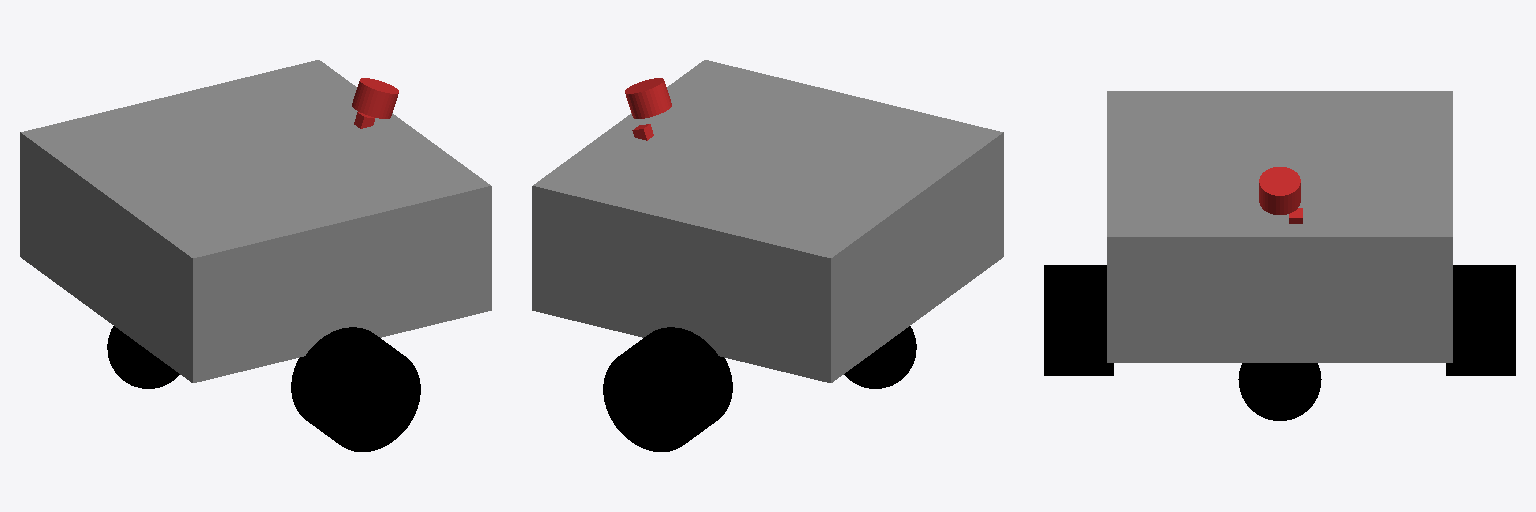
URDF robot description (sentry):
<?xml version="1.0"?>
<robot name="sentry">

  <material name="gray"><color rgba="0.6 0.6 0.6 1.0"/></material>
  <material name="black"><color rgba="0 0 0 1.0"/></material>
  <material name="red"><color rgba="0.8 0.2 0.2 1.0"/></material>

  <link name="base_link">
    <inertial>
      <mass value="12.0"/>
      <!-- lower the inertial origin slightly to reduce tipping -->
      <origin xyz="0 0 -0.02" rpy="0 0 0"/>
      <inertia ixx="0.2933" ixy="0" ixz="0" iyy="0.2933" iyz="0" izz="0.4333"/>
    </inertial>

    <visual>
      <origin xyz="0 0 0.05" rpy="0 0 0"/>
      <geometry><box size="0.5 0.5 0.2"/></geometry>
      <material name="gray"/>
    </visual>

    <collision>
      <origin xyz="0 0 0.05" rpy="0 0 0"/>
      <geometry><box size="0.5 0.5 0.2"/></geometry>
    </collision>
  </link>

  <link name="left_wheel">
    <visual>
      <origin xyz="0 0 0" rpy="1.5708 0 0"/>
      <geometry>
        <cylinder length="0.10" radius="0.08"/>
      </geometry>
      <material name="black"/>
    </visual>

    <collision>
      <origin xyz="0 0 0" rpy="1.5708 0 0"/>
      <geometry>
        <cylinder length="0.10" radius="0.08"/>
      </geometry>
      <surface>
        <friction>
          <ode>
            <mu>30</mu>
            <mu2>15</mu2>
            <slip1>0.001</slip1>
            <slip2>0.001</slip2>
          </ode>
        </friction>
      </surface>
    </collision>
    <inertial>
      <mass value="1.2"/>
      <origin xyz="0 0 0" rpy="0 0 0"/>
      <inertia
        ixx="0.003733"
        ixy="0"
        ixz="0"
        iyy="0.003733"
        iyz="0"
        izz="0.000768"/>
    </inertial>
  </link>

  <!-- simplified suspension mount for left wheel: prismatic joint allows small vertical travel -->
  <link name="left_suspension">
    <inertial>
      <mass value="0.5"/>
      <origin xyz="0 0 -0.02" rpy="0 0 0"/>
      <inertia ixx="0.001" ixy="0" ixz="0" iyy="0.001" iyz="0" izz="0.001"/>
    </inertial>
  </link>

  <joint name="left_suspension_prismatic" type="prismatic">
    <parent link="base_link"/>
    <!-- place mount roughly at wheel hub: centered longitudinally, outside body laterally -->
    <child link="left_suspension"/>
    <!-- raised wheel center to match support bottoms: center z = -0.09 (wheel radius 0.08 -> bottom -0.17) -->
    <origin xyz="0 0.29 -0.1" rpy="0 0 0"/>
    <axis xyz="0 0 1"/>
    <limit lower="-0.02" upper="0.02" effort="50" velocity="0.5"/>
    <dynamics damping="20.0"/>
  </joint>

  <joint name="left_wheel_joint" type="continuous">
    <!-- parent is suspension mount now; wheel hub is at mount origin -->
    <parent link="left_suspension"/>
    <child link="left_wheel"/>
    <origin xyz="0 0 0" rpy="0 0 0"/>
    <axis xyz="0 1 0"/>
    <!-- limit effort to avoid excessive torque when velocity commands step -->
    <limit effort="30.0" velocity="30.0"/>
    <!-- add higher damping to smooth sudden velocity changes (approximate viscous damper) -->
    <dynamics damping="1.0" friction="0.05"/>
    <physics>
      <ode>
        <stopCfm>0.001</stopCfm>
        <stopErp>0.8</stopErp>
      </ode>
    </physics>
  </joint>

  <link name="right_wheel">
    <visual>
      <origin xyz="0 0 0" rpy="1.5708 0 0"/>
      <geometry>
        <cylinder length="0.10" radius="0.08"/>
      </geometry>
      <material name="black"/>
    </visual>

    <collision>
      <origin xyz="0 0 0" rpy="1.5708 0 0"/>
      <geometry>
        <cylinder length="0.10" radius="0.08"/>
      </geometry>
      <surface>
        <friction>
          <ode>
            <mu>30</mu>
            <mu2>15</mu2>
            <slip1>0.001</slip1>
            <slip2>0.001</slip2>
          </ode>
        </friction>
      </surface>
    </collision>

    <inertial>
      <mass value="1.2"/>
      <origin xyz="0 0 0" rpy="0 0 0"/>
      <inertia
        ixx="0.003733"
        ixy="0"
        ixz="0"
        iyy="0.003733"
        iyz="0"
        izz="0.000768"/>
    </inertial>
  </link>

  <!-- simplified suspension mount for right wheel: symmetric to left -->
  <link name="right_suspension">
    <inertial>
      <mass value="0.5"/>
      <origin xyz="0 0 -0.02" rpy="0 0 0"/>
      <inertia ixx="0.001" ixy="0" ixz="0" iyy="0.001" iyz="0" izz="0.001"/>
    </inertial>
  </link>

  <joint name="right_suspension_prismatic" type="prismatic">
    <parent link="base_link"/>
    <child link="right_suspension"/>
    <!-- raised wheel center to match support bottoms -->
    <origin xyz="0 -0.29 -0.1" rpy="0 0 0"/>
    <axis xyz="0 0 1"/>
    <limit lower="-0.02" upper="0.02" effort="50" velocity="0.5"/>
    <dynamics damping="20.0"/>
  </joint>

  <joint name="right_wheel_joint" type="continuous">
    <parent link="right_suspension"/>
    <child link="right_wheel"/>
    <origin xyz="0 0 0" rpy="0 0 0"/>
    <axis xyz="0 1 0"/>
    <limit effort="30.0" velocity="30.0"/>
    <dynamics damping="1.0" friction="0.05"/>
    <physics>
      <ode>
        <stopCfm>0.001</stopCfm>
        <stopErp>0.8</stopErp>
      </ode>
    </physics>
  </joint>

  <!-- rear support replaced with swivel + spherical wheel to allow free rotation -->
  <link name="caster_swivel">
    <inertial>
      <mass value="0.4"/>
      <origin xyz="0 0 0" rpy="0 0 0"/>
      <inertia ixx="0.0006" ixy="0" ixz="0" iyy="0.0006" iyz="0" izz="0.0006"/>
    </inertial>
  </link>

  <!-- swivel joint: allow the caster to yaw freely (keeps name for ros2_control mapping) -->
  <joint name="caster_wheel_joint" type="revolute">
    <parent link="base_link"/>
    <child link="caster_swivel"/>
    <origin xyz="-0.18 0.0 -0.11" rpy="0 0 0"/>
    <axis xyz="0 0 1"/>
    <limit lower="-3.14159" upper="3.14159" effort="10" velocity="1.0"/>
    <!-- increase damping to reduce yaw oscillation -->
    <dynamics damping="0.5"/>
  </joint>

  <link name="caster_wheel">
    <visual>
      <origin xyz="0 0 0" rpy="0 0 0"/>
      <geometry><sphere radius="0.06"/></geometry>
      <material name="black"/>
    </visual>
    <collision>
      <origin xyz="0 0 0" rpy="0 0 0"/>
      <geometry><sphere radius="0.055"/></geometry>
      <surface>
        <friction>
          <ode>
            <mu>0.1</mu>
            <mu2>0.1</mu2>
            <slip1>0.002</slip1>
            <slip2>0.002</slip2>
          </ode>
        </friction>
      </surface>
    </collision>
    <inertial>
      <mass value="0.2"/>
      <origin xyz="0 0 0" rpy="0 0 0"/>
      <inertia ixx="0.0003" ixy="0" ixz="0" iyy="0.0003" iyz="0" izz="0.0003"/>
    </inertial>
  </link>

  <joint name="caster_wheel_spin" type="continuous">
    <parent link="caster_swivel"/>
    <child link="caster_wheel"/>
    <origin xyz="0 0 0" rpy="0 0 0"/>
    <axis xyz="0 1 0"/>
    <dynamics damping="0.01" friction="0.0"/>
  </joint>

  <!-- front support: suspended swivel + small ball wheel for low-friction free rotation -->
  <link name="front_support_mount">
    <inertial>
      <mass value="0.3"/>
      <origin xyz="0 0 -0.02" rpy="0 0 0"/>
      <inertia ixx="0.0005" ixy="0" ixz="0" iyy="0.0005" iyz="0" izz="0.0005"/>
    </inertial>
  </link>

  <joint name="front_support_prismatic" type="prismatic">
    <parent link="base_link"/>
    <child link="front_support_mount"/>
    <!-- align front support wheel center z with rear caster wheel center (-0.11) -->
    <origin xyz="0.18 0.0 -0.11" rpy="0 0 0"/>
    <axis xyz="0 0 1"/>
    <limit lower="-0.02" upper="0.02" effort="20" velocity="0.5"/>
    <dynamics damping="12.0"/>
  </joint>

  <link name="front_support_swivel">
    <inertial>
      <mass value="0.15"/>
      <origin xyz="0 0 0" rpy="0 0 0"/>
      <inertia ixx="0.0002" ixy="0" ixz="0" iyy="0.0002" iyz="0" izz="0.0002"/>
    </inertial>
  </link>

  <joint name="front_support_swivel_joint" type="revolute">
    <parent link="front_support_mount"/>
    <child link="front_support_swivel"/>
    <origin xyz="0 0 0" rpy="0 0 0"/>
    <axis xyz="0 0 1"/>
    <!-- allow free swivel with little damping -->
    <limit lower="-3.14159" upper="3.14159" effort="10" velocity="1.0"/>
    <!-- increase damping to reduce yaw oscillation -->
    <dynamics damping="0.5"/>
  </joint>

  <link name="front_support_wheel">
    <visual>
      <origin xyz="0 0 0" rpy="0 0 0"/>
      <geometry><sphere radius="0.06"/></geometry>
      <material name="black"/>
    </visual>
    <collision>
      <origin xyz="0 0 0" rpy="0 0 0"/>
      <geometry><sphere radius="0.055"/></geometry>
      <surface>
        <friction>
          <ode>
            <mu>0.1</mu>
            <mu2>0.1</mu2>
            <slip1>0.002</slip1>
            <slip2>0.002</slip2>
          </ode>
        </friction>
      </surface>
    </collision>
    <inertial>
      <mass value="0.2"/>
      <origin xyz="0 0 0" rpy="0 0 0"/>
      <inertia ixx="0.0003" ixy="0" ixz="0" iyy="0.0003" iyz="0" izz="0.0003"/>
    </inertial>
  </link>

  <!-- wheel spin joint: allow the ball to spin around an axis (approximate rolling) -->
  <joint name="front_support_wheel_spin" type="continuous">
    <parent link="front_support_swivel"/>
    <child link="front_support_wheel"/>
    <origin xyz="0 0 0" rpy="0 0 0"/>
    <!-- spin axis roughly lateral so forward/back motion can roll the ball -->
    <axis xyz="0 1 0"/>
    <dynamics damping="0.01" friction="0.0"/>
  </joint>

  <link name="lidar_link">
    <visual>
      <geometry>
        <cylinder length="0.04" radius="0.03"/>
      </geometry>
      <material name="red"/>
    </visual>
  </link>

  <joint name="lidar_joint" type="fixed">
    <parent link="base_link"/>
    <child link="lidar_link"/>
    <origin xyz="0.20 0.0 0.2" rpy="0 0.349 0"/>
  </joint>

  <link name="imu_link">
    <visual>
      <geometry><box size="0.02 0.02 0.02"/></geometry>
      <material name="red"/>
    </visual>
  </link>

  <joint name="imu_joint" type="fixed">
    <parent link="lidar_link"/>
    <child link="imu_link"/>
    <origin xyz="0.011 0.02329 -0.04412" rpy="0 0 0"/>
  </joint>

  <gazebo reference="lidar_link">
    <sensor name="lidar_sensor" type="gpu_lidar">
      <ignition_frame_id>lidar_link</ignition_frame_id>
      <always_on>true</always_on>
      <update_rate>20</update_rate>
      <visualize>true</visualize>
      <topic>/lidar</topic>
      <namespace></namespace>
      <ray>
        <scan>
          <horizontal>
            <samples>200</samples>
            <resolution>1.0</resolution>
            <min_angle>-1.57</min_angle>
            <max_angle>1.57</max_angle>
          </horizontal>
          <vertical>
            <samples>64</samples>
            <min_angle>-0.12217304764</min_angle>
            <max_angle>0.90757121104</max_angle>
          </vertical>
        </scan>
        <range>
          <min>0.1</min>
          <max>50.0</max>
        </range>
      </ray>
      <noise>
        <type>gaussian</type>
        <mean>0.0</mean>
        <stddev>0.01</stddev>
      </noise>
    </sensor>
  </gazebo>
  
  <gazebo reference="caster_wheel">
    <!-- low-friction spherical rear support -->
    <mu1 value="0.1"/>
    <mu2 value="0.1"/>
  </gazebo>
  
  <gazebo reference="left_wheel">
    <!-- more realistic wheel friction values for traction without excessive locking -->
    <mu1 value="1.5"/>
    <mu2 value="1.5"/>
  </gazebo>
  
  <gazebo reference="right_wheel">
    <mu1 value="1.5"/>
    <mu2 value="1.5"/>
  </gazebo>

  <gazebo reference="front_support_wheel">
    <mu1 value="0.1"/>
    <mu2 value="0.1"/>
  </gazebo>

  <gazebo reference="imu_link">
    <sensor name="imu_sensor" type="imu">
      <ignition_frame_id>imu_link</ignition_frame_id>
      <always_on>true</always_on>
      <update_rate>200</update_rate>
      <topic>/livox/imu</topic>
      <namespace>my_diffbot</namespace>
      <imu>
        <angular_velocity>
          <x>
            <noise type="gaussian"><mean>0.0</mean><stddev>0.0002</stddev></noise>
          </x>
          <y>
            <noise type="gaussian"><mean>0.0</mean><stddev>0.0002</stddev></noise>
          </y>
          <z>
            <noise type="gaussian"><mean>0.0</mean><stddev>0.0002</stddev></noise>
          </z>
        </angular_velocity>
        <linear_acceleration>
          <x>
            <noise type="gaussian"><mean>0.0</mean><stddev>0.005</stddev></noise>
          </x>
          <y>
            <noise type="gaussian"><mean>0.0</mean><stddev>0.005</stddev></noise>
          </y>
          <z>
            <noise type="gaussian"><mean>0.0</mean><stddev>0.005</stddev></noise>
          </z>
        </linear_acceleration>
      </imu>
    </sensor>
  </gazebo>

  <ros2_control name="GazeboSimSystem" type="system">
    <hardware>
      <plugin>gz_ros2_control/GazeboSimSystem</plugin>
    </hardware>
  
    <joint name="left_wheel_joint">
      <command_interface name="velocity">
        <param name="min">-80</param>
        <param name="max">80</param>
      </command_interface>
      <state_interface name="position"/>
      <state_interface name="velocity"/>
    </joint>
    
    <joint name="right_wheel_joint">
      <command_interface name="velocity">
        <param name="min">-80</param>
        <param name="max">80</param>
      </command_interface>
      <state_interface name="position"/>
      <state_interface name="velocity"/>
    </joint>

    <joint name="caster_wheel_joint">
      <state_interface name="position"/>
      <state_interface name="velocity"/>
    </joint>
  </ros2_control>

  <gazebo>
    <plugin filename="libgz_ros2_control-system.so" name="gz_ros2_control::GazeboSimROS2ControlPlugin">
      <parameters>__VELOCITY_CONTROLLER_CONFIG__</parameters>
    </plugin>
  </gazebo>

</robot>

--- Facts derived from the render (not from the file) ---
Views: 3 orthographic renders of the robot side by side, from view 1: azimuth 30°, elevation 25°; view 2: azimuth 150°, elevation 25°; view 3: azimuth 270°, elevation 25°.
Robot: sentry — 12 links, 11 joints (2 revolute, 4 continuous, 3 prismatic, 2 fixed); root link base_link; default pose: all joints at 0.
Visible links, largest first — view 1: base_link, right_wheel, caster_wheel, lidar_link; view 2: base_link, left_wheel, caster_wheel, lidar_link; view 3: base_link, left_wheel, right_wheel, front_support_wheel, lidar_link.
Link boxes in pixels (x1,y1,x2,y2): base_link: (20,60,491,382); right_wheel: (291,327,420,451); caster_wheel: (107,326,179,388); lidar_link: (352,78,398,118); base_link: (532,60,1003,382); left_wheel: (603,327,732,451); caster_wheel: (844,326,916,388); lidar_link: (625,78,671,118); base_link: (1107,91,1452,362); left_wheel: (1446,265,1515,375); right_wheel: (1044,265,1113,375); front_support_wheel: (1238,363,1321,420); lidar_link: (1259,167,1300,214).
Size in the robot's own frame: 0.5 by 0.68 by 0.4091 metres.
Geometry: primitives only (box / cylinder / sphere), no mesh files.
